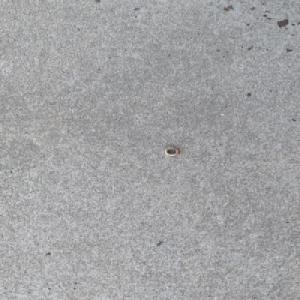Nut: (163, 146, 179, 156)
